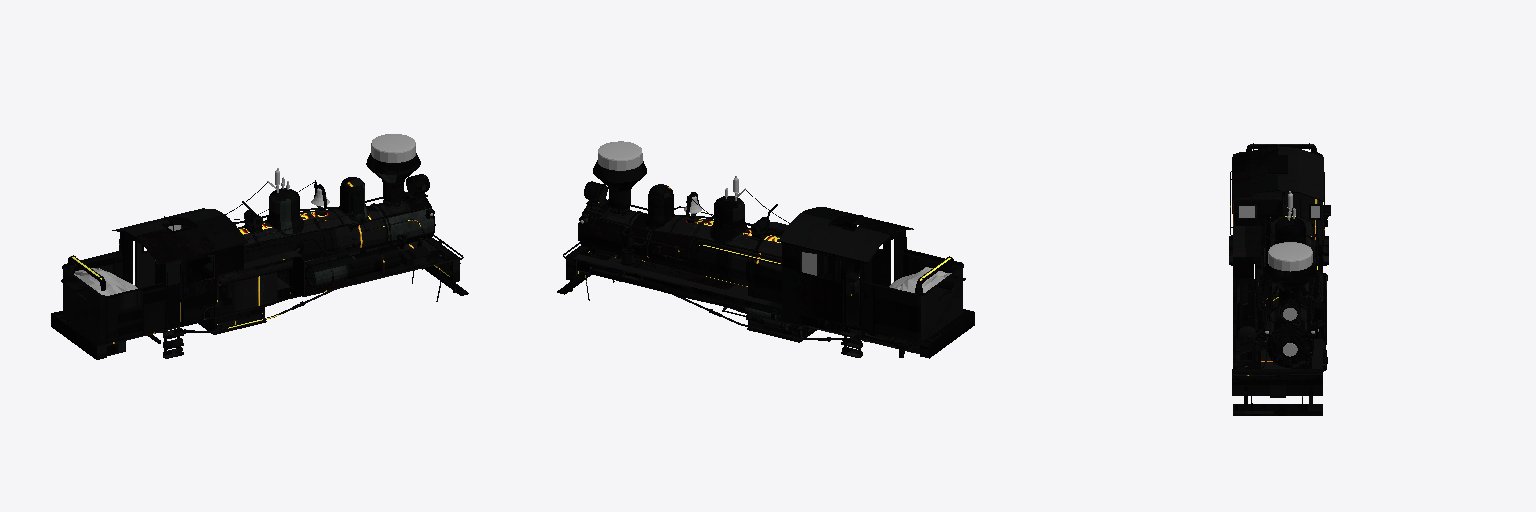
3 renders of one model, left to right at view 1: azimuth 30°, elevation 25°; view 2: azimuth 150°, elevation 25°; view 3: azimuth 270°, elevation 25°, orthographic.
Visible parts, largest first — view 1: Circle.146_Circle.167, Circle.156_Circle.177, Circle.145_Circle.166; view 2: Circle.146_Circle.167, Circle.156_Circle.177, Circle.145_Circle.166; view 3: Circle.146_Circle.167, Circle.156_Circle.177.
Boxes of the visible parts, x1,y1,x2,y2 form: Circle.146_Circle.167: [51, 153, 468, 359]; Circle.156_Circle.177: [371, 134, 415, 162]; Circle.145_Circle.166: [74, 268, 137, 295]; Circle.146_Circle.167: [557, 160, 974, 358]; Circle.156_Circle.177: [598, 141, 642, 170]; Circle.145_Circle.166: [889, 267, 951, 292]; Circle.146_Circle.167: [1229, 143, 1330, 415]; Circle.156_Circle.177: [1268, 242, 1312, 271].
Bounding box in the file's own units: 6.41 × 2.5 × 1.49.
6 materials, 1 textured.